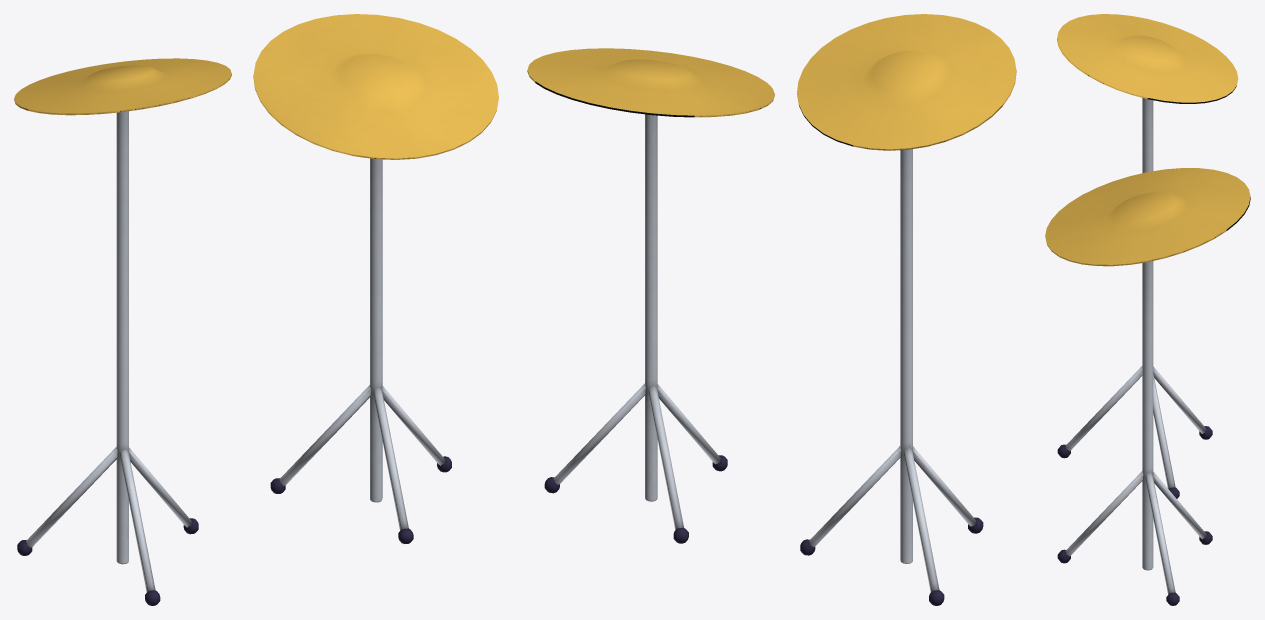
File: Cymbals.fbx
The picture shows the model from 3 angles, left to right: view 1: azimuth 30°, elevation 25°; view 2: azimuth 150°, elevation 25°; view 3: azimuth 270°, elevation 25°; orthographic projection. The views are drawn at different scales.
Parts seen in each view (by area): view 1: Pad_51_Mesh.001, Cymbals_Body, Pad_49_Mesh.001; view 2: Pad_49_Mesh.001, Cymbals_Body, Pad_51_Mesh.001; view 3: Pad_51_Mesh.001, Pad_49_Mesh.001, Cymbals_Body.
Boxes of the visible parts, box(x1,y1,x2,y2) form: Pad_51_Mesh.001: box(253, 14, 498, 159); Cymbals_Body: box(17, 111, 451, 605); Pad_49_Mesh.001: box(14, 58, 231, 115); Pad_49_Mesh.001: box(797, 14, 1016, 150); Cymbals_Body: box(544, 114, 983, 605); Pad_51_Mesh.001: box(527, 48, 774, 117); Pad_51_Mesh.001: box(1045, 168, 1250, 266); Pad_49_Mesh.001: box(1057, 14, 1238, 103); Cymbals_Body: box(1057, 98, 1212, 605).
Size of the model in its own units: 1.15 by 1.21 by 0.529.
